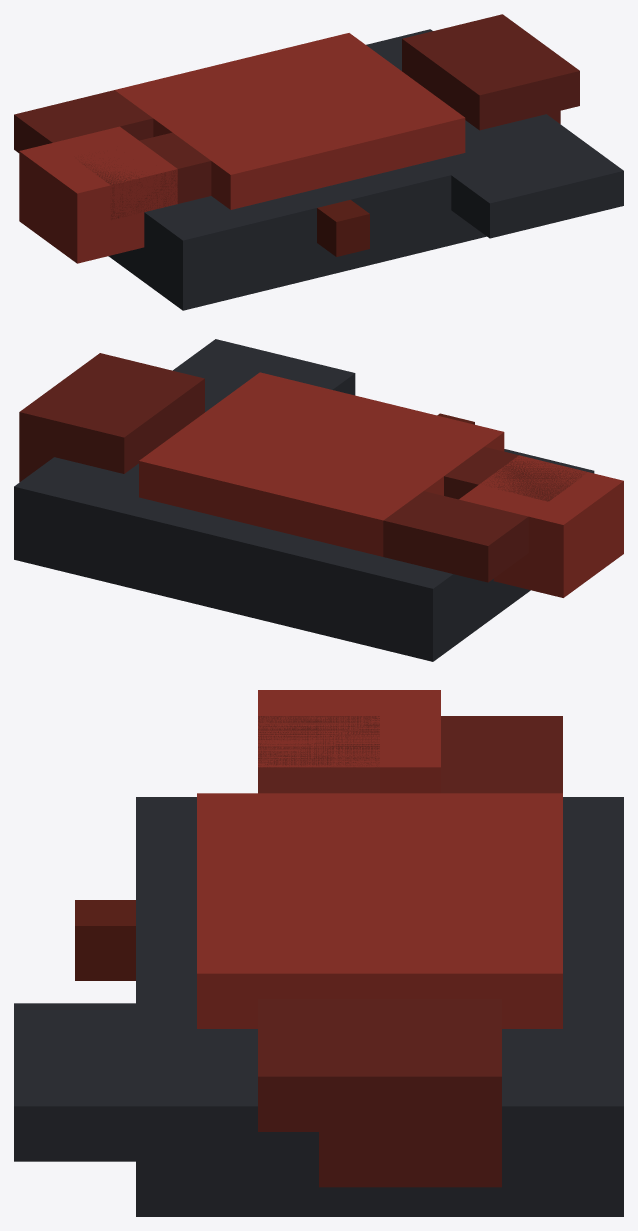
The model's file is mech_spider_walker_destroyed.glb.
3 renders of one model, top to bottom at view 1: azimuth 30°, elevation 25°; view 2: azimuth 150°, elevation 25°; view 3: azimuth 270°, elevation 25°, orthographic. The views are drawn at different scales.
Parts seen in each view (by area): view 1: Wreck mesh, Leg mesh, Ember mesh; view 2: Wreck mesh, Leg mesh; view 3: Wreck mesh, Leg mesh, Ember mesh.
Part boxes in pixels (x1,y1,x2,y2): Wreck mesh: [19, 14, 623, 310]; Leg mesh: [14, 43, 579, 219]; Ember mesh: [317, 200, 369, 256]; Wreck mesh: [14, 339, 623, 661]; Leg mesh: [61, 353, 586, 582]; Wreck mesh: [14, 690, 623, 1216]; Leg mesh: [258, 716, 562, 1131]; Ember mesh: [75, 900, 135, 980].
Bounding box in the file's own units: 15 × 3 × 10.
1 material, 1 textured.
